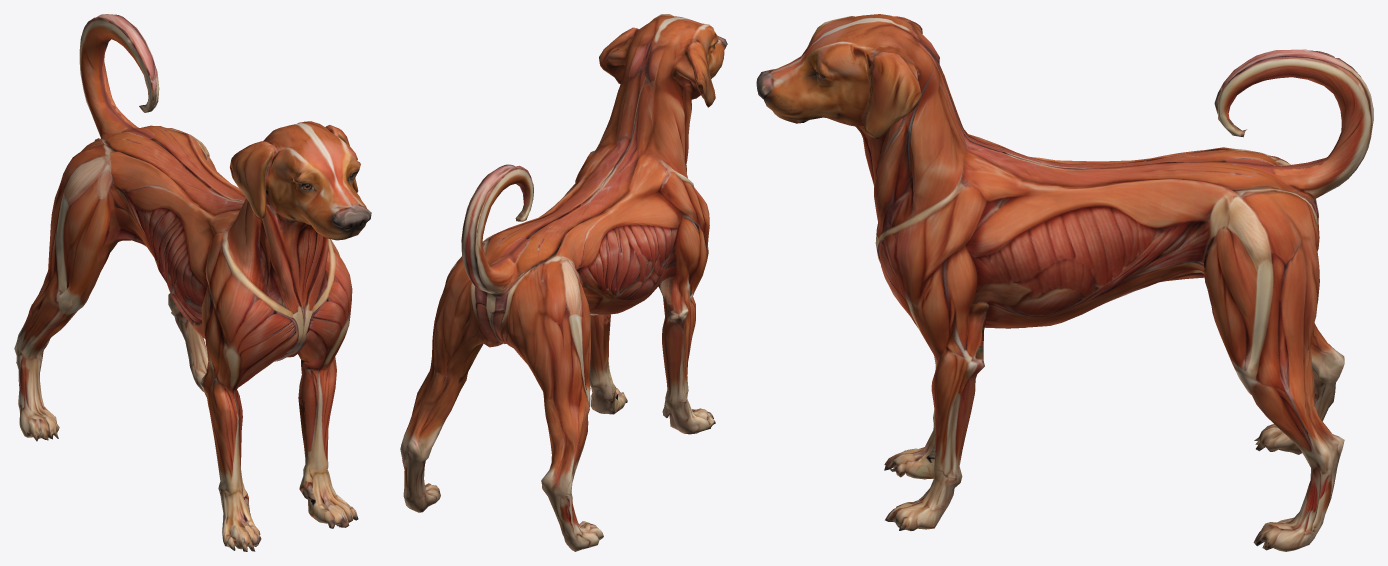
Rendered from 1761089447414_cachorroOrgaosF.glb.
3 renders of one model, left to right at view 1: azimuth 30°, elevation 25°; view 2: azimuth 150°, elevation 25°; view 3: azimuth 270°, elevation 25°, orthographic. The views are drawn at different scales.
Size of the model in its own units: 0.8828 by 1.73 by 2.
1 material, 1 textured.
